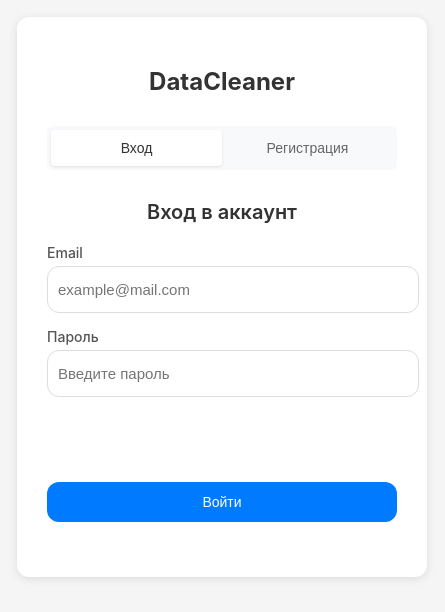
Auth компонент › Ошибки входа › показывает сообщение об ошибке сервера при статусе 500
This screenshot has width=445, height=612.
Type "user@test.local" into the field with id "login-email" at point(233, 289), box [47,266,419,313]
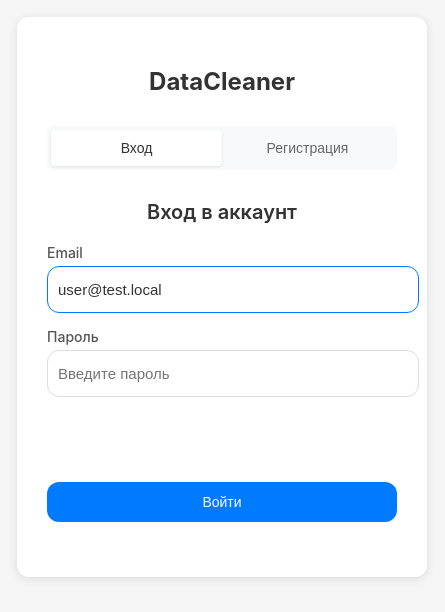
Type "Pass123!" into the password field with id "login-password" at point(233, 373), box [47,350,419,397]
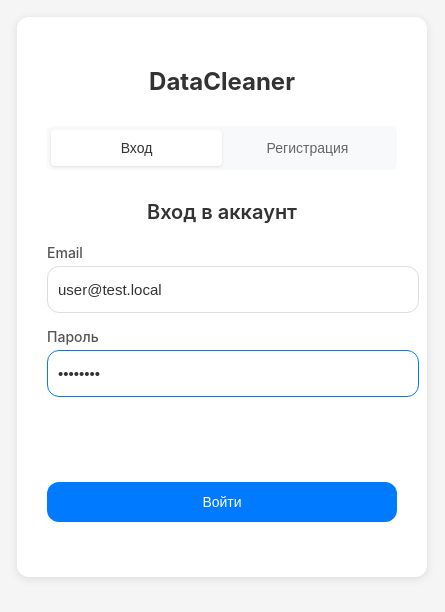
Click the submit button at point(222, 502), box [47,482,397,522]
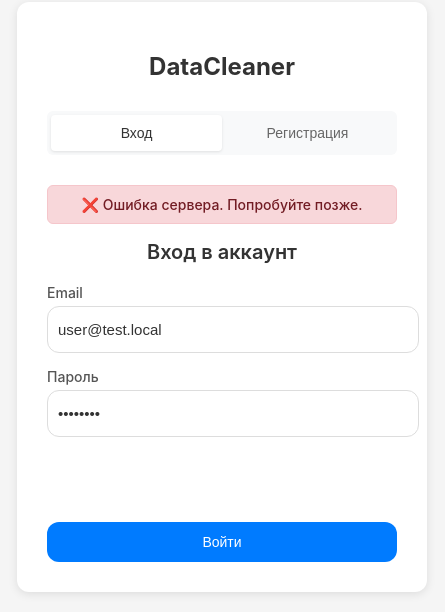
expect the message shows "Ошибка сервера": met, box [82,196,362,213]
